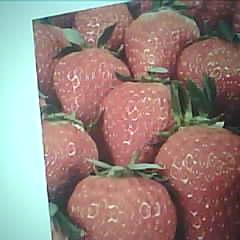straw-ripe: (154, 125, 240, 240), (68, 171, 176, 240)
